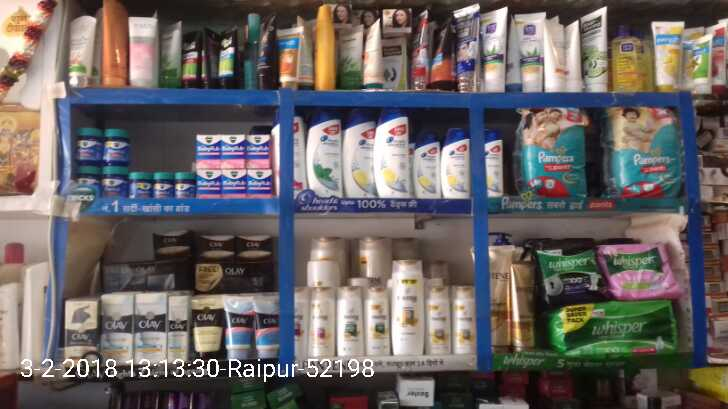beauty: (387, 259, 427, 357), (303, 108, 345, 201), (374, 111, 410, 199), (340, 112, 374, 200), (97, 291, 132, 368), (188, 292, 227, 361), (133, 293, 167, 362), (440, 126, 471, 201), (421, 280, 450, 359), (66, 297, 98, 368), (224, 293, 256, 359), (451, 281, 478, 359), (412, 133, 440, 199), (335, 286, 362, 354), (363, 284, 389, 354), (307, 288, 334, 355), (166, 292, 190, 363), (256, 300, 284, 358)
pharmacy: (600, 103, 685, 200), (542, 296, 680, 354), (512, 104, 593, 202), (599, 240, 680, 299), (532, 239, 604, 301), (71, 127, 105, 166), (103, 128, 131, 166), (100, 166, 130, 201), (219, 133, 248, 168), (195, 167, 226, 196), (196, 135, 220, 169), (172, 170, 195, 201), (247, 135, 269, 167), (150, 173, 174, 202), (222, 170, 245, 199), (248, 169, 271, 197), (131, 172, 152, 202)
